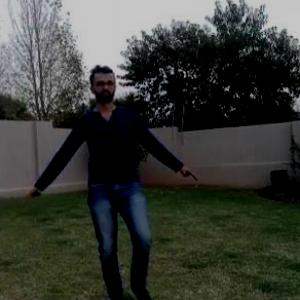land: (26, 62, 215, 290)
